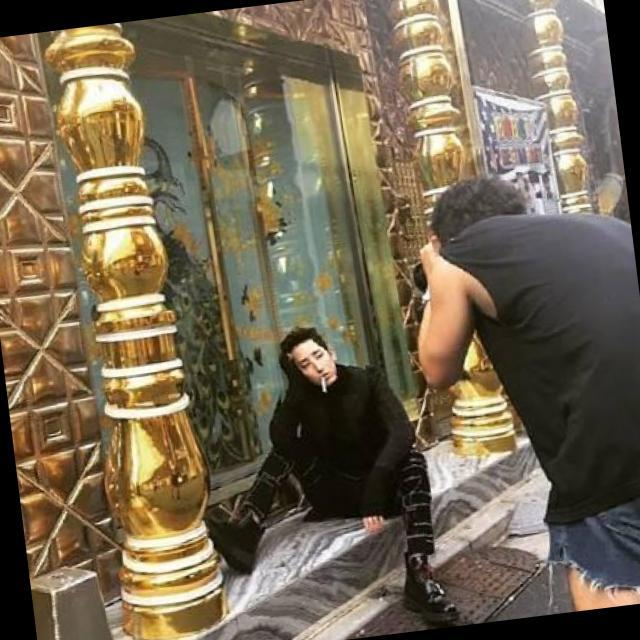cigarette: (310, 372, 325, 402)
